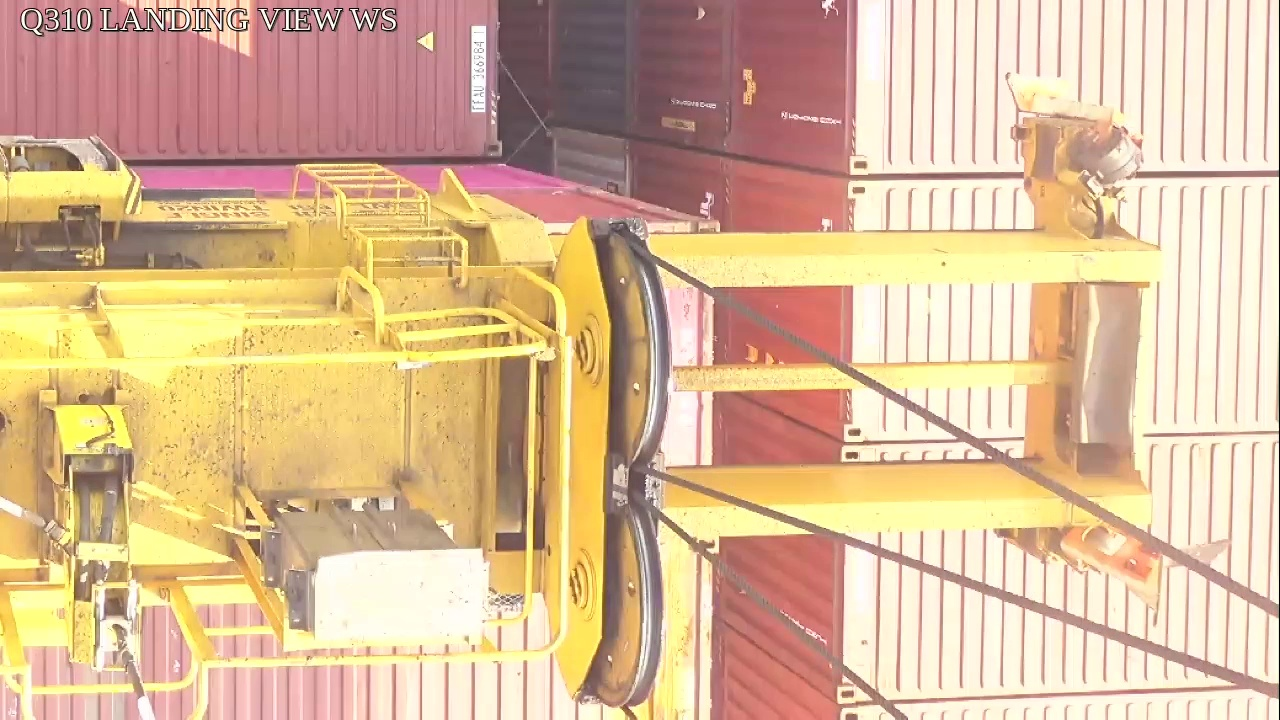right: (550, 217, 675, 709)
